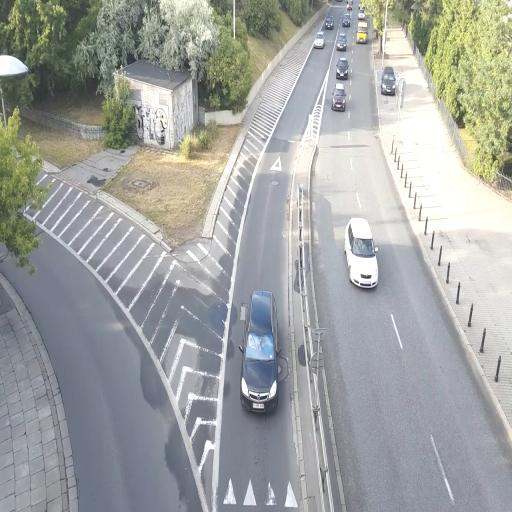vehicle: (240, 289, 280, 414), (240, 289, 280, 413), (344, 217, 379, 290), (380, 66, 398, 96), (331, 82, 347, 112), (336, 57, 350, 79), (313, 32, 325, 49), (337, 32, 348, 50), (324, 16, 334, 30)
